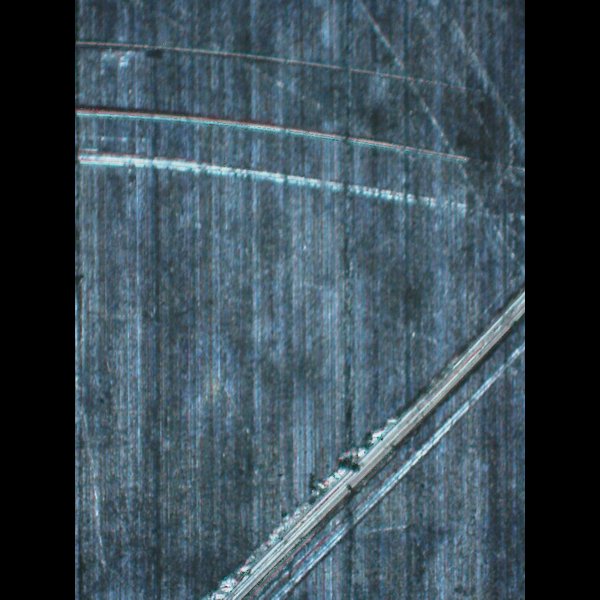d: (200, 267, 525, 600), (75, 27, 504, 237)
